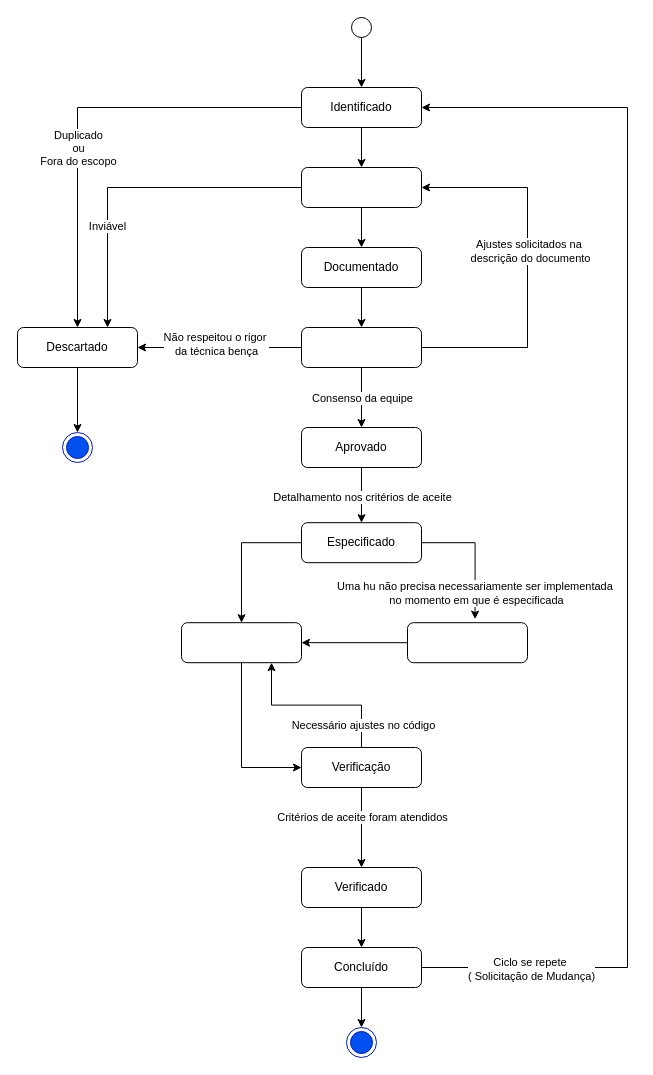
Image size: 653x1075. Some labels were removed from this diagram. The shapes that lost their labels are listed below. From the top down, each one's centre as x and y in pixels, then its label:
At (x=361, y=187): "Em Análise".
At (x=361, y=347): "Em Validação".
At (x=241, y=642): "Em Implementação".
At (x=467, y=642): "Adiado".
